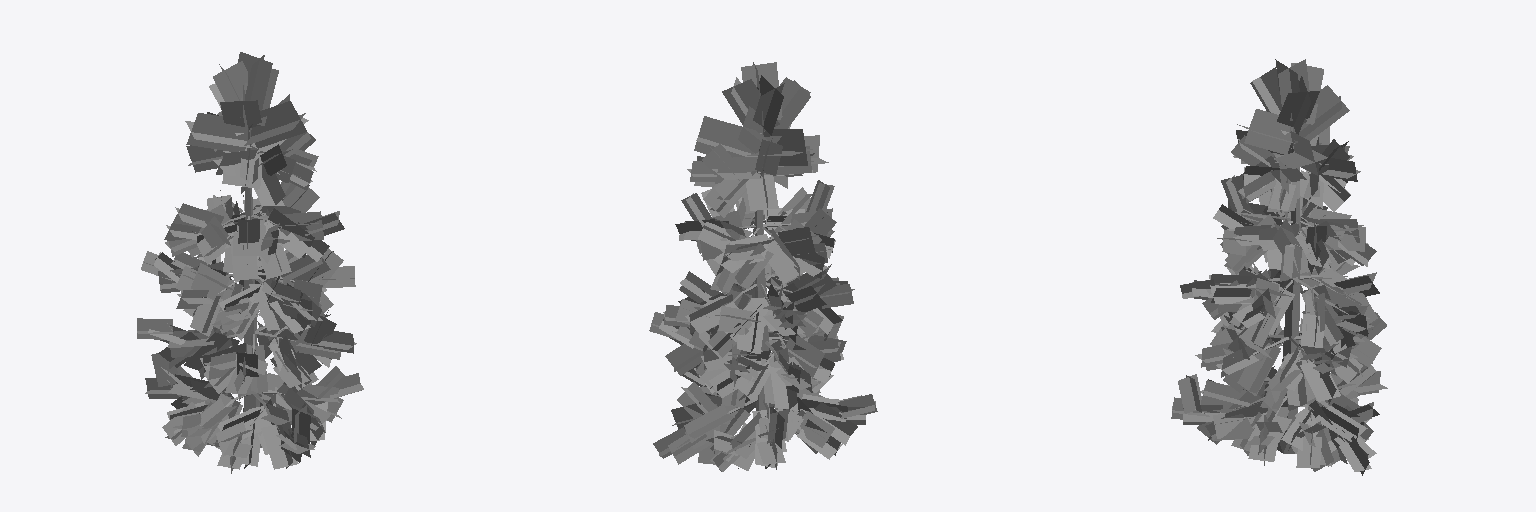
File: Tree04.obj
3 renders of one model, left to right at view 1: azimuth 30°, elevation 25°; view 2: azimuth 150°, elevation 25°; view 3: azimuth 270°, elevation 25°, orthographic.
Visible parts, largest first — view 1: Mesh; view 2: Mesh; view 3: Mesh.
Boxes of the visible parts, box(x1,y1,x2,y2) form: Mesh: box(137, 52, 363, 473); Mesh: box(649, 62, 877, 471); Mesh: box(1171, 59, 1387, 475).
Size of the model in its own units: 14.46 by 28.18 by 14.18.